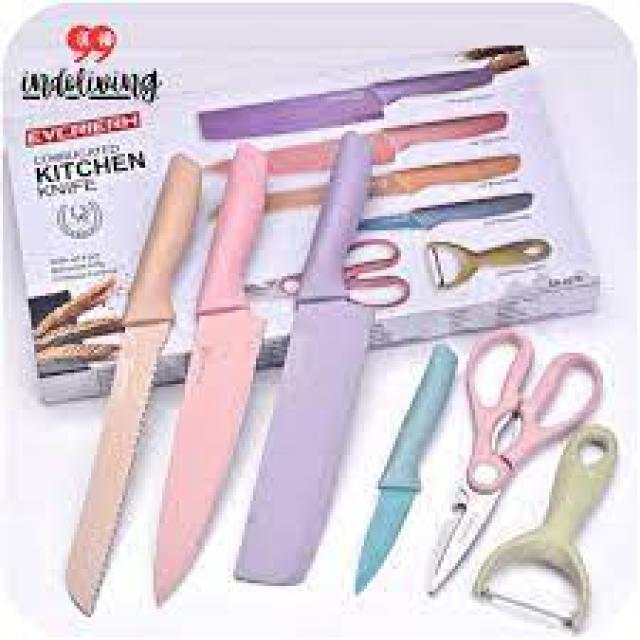Knife: (53, 148, 388, 629)
